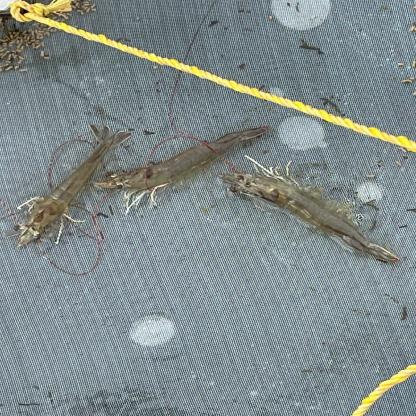shrimp: (217, 170, 401, 263), (15, 125, 134, 249), (93, 126, 270, 204)
